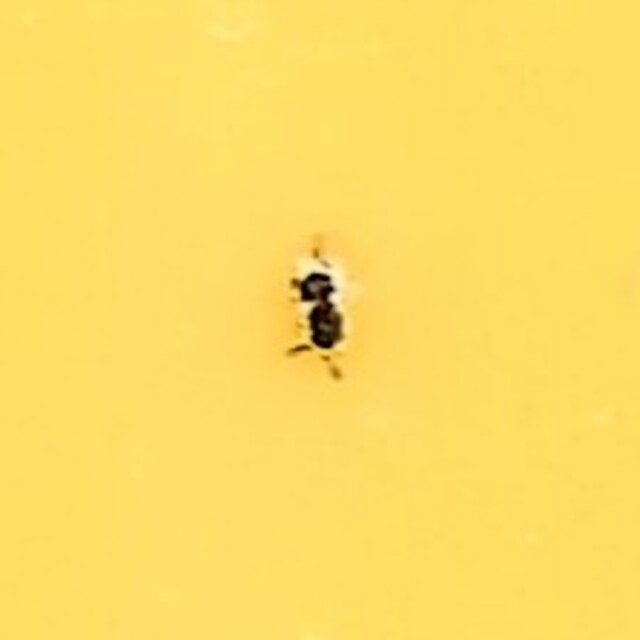Hymenoptera: (287, 258, 353, 382)
